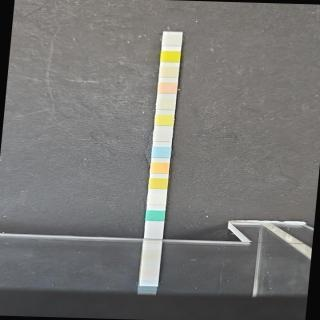mark: (162, 34, 181, 46), (146, 210, 164, 222), (157, 98, 175, 110), (159, 82, 177, 94), (160, 66, 178, 78), (154, 129, 170, 142), (151, 162, 168, 174), (162, 51, 180, 62), (150, 178, 166, 190), (157, 114, 173, 126), (148, 193, 165, 204), (153, 146, 170, 157)
